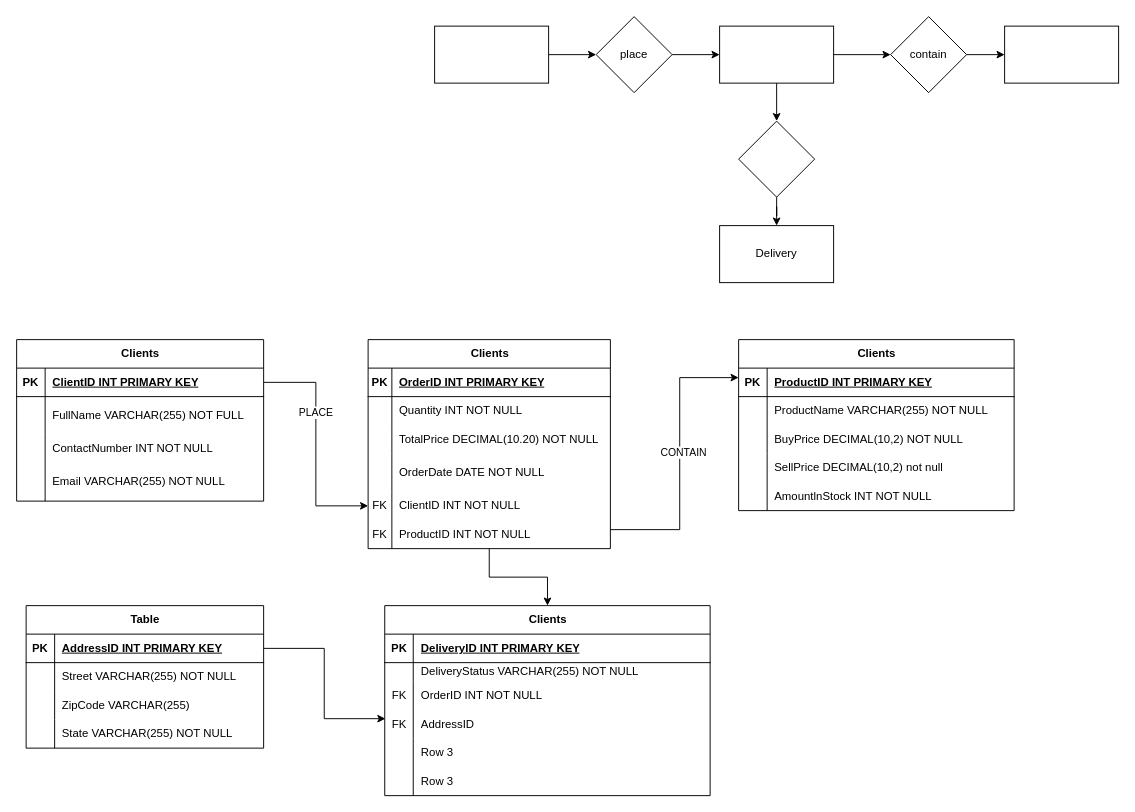
This 1135x812 diagram has some shape labels left out. The shapes that lost their labels are listed below. From the top down, each one's centre as x and y in pixels, then its label:
the point at 491,54: Clents
the point at 776,54: Orders
the point at 1061,54: Products
the point at 776,158: delivered
